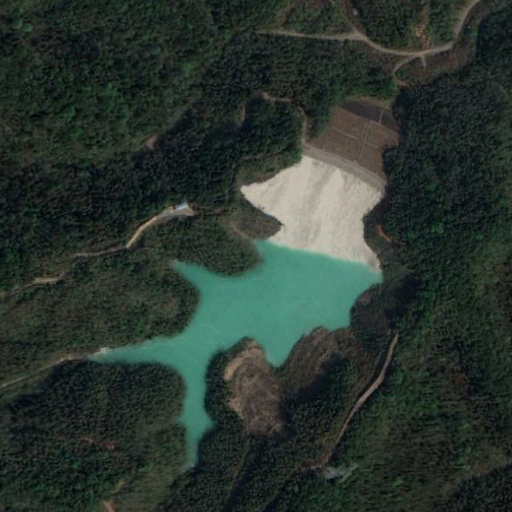tp: (86, 96, 402, 470)
